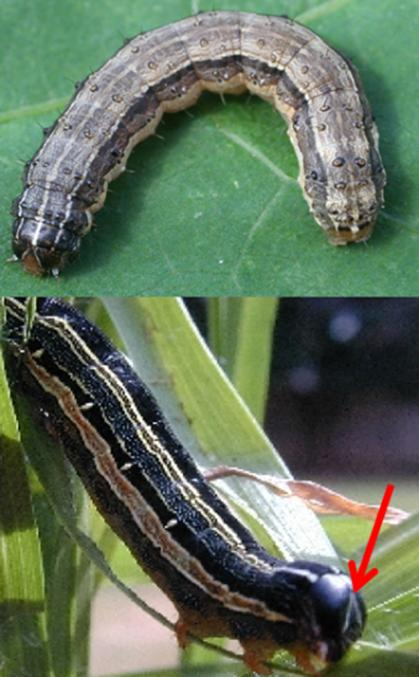Armyworm: (10, 300, 400, 677), (12, 22, 397, 283)
